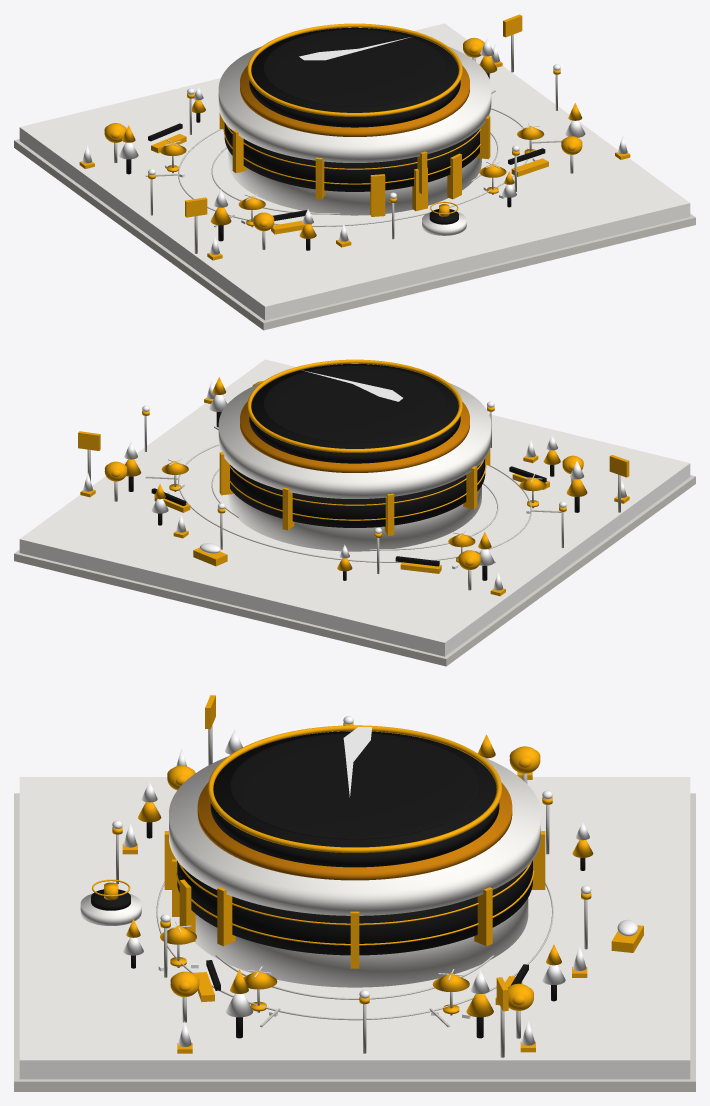
File: zona_plaza_central_ultra_checkpoint_orange.glb
3 views of the same model, one above another, from view 1: azimuth 30°, elevation 25°; view 2: azimuth 150°, elevation 25°; view 3: azimuth 270°, elevation 25° (orthographic). The views are drawn at different scales.
Parts seen in each view (by area): view 1: single compact rounded-square plaza tile, barely convex satin black top surface, wide clean white roof collar, thin visible grey underside bevel, continuous black storefront ribbon, flat black circular roof disk, low wide white cylindrical plaza body, thin amber roof accent under disk, thin bright yellow outline around black roof disk, thin engraved circular plaza paving guide.001, chunky yellow entrance fins.001, round miniature fountain base (+2 smaller); view 2: single compact rounded-square plaza tile, barely convex satin black top surface, wide clean white roof collar, thin visible grey underside bevel, continuous black storefront ribbon, low wide white cylindrical plaza body, flat black circular roof disk, thin amber roof accent under disk, thin bright yellow outline around black roof disk, thin engraved circular plaza paving guide.001, thin yellow horizontal facade grid line, white nike swoosh on roof (+1 smaller); view 3: single compact rounded-square plaza tile, barely convex satin black top surface, wide clean white roof collar, thin visible grey underside bevel, continuous black storefront ribbon, low wide white cylindrical plaza body, flat black circular roof disk, thin amber roof accent under disk, thin bright yellow outline around black roof disk, round miniature fountain base, thin engraved circular plaza paving guide.001, solid yellow facade column.001 (+5 smaller).
Boxes of the visible parts, x1=… form: single compact rounded-square plaza tile: x1=19, y1=23, x2=690, y2=320; barely convex satin black top surface: x1=263, y1=29, x2=446, y2=106; wide clean white roof collar: x1=218, y1=46, x2=491, y2=162; thin visible grey underside bevel: x1=14, y1=139, x2=695, y2=330; continuous black storefront ribbon: x1=224, y1=122, x2=479, y2=191; flat black circular roof disk: x1=249, y1=27, x2=460, y2=127; low wide white cylindrical plaza body: x1=228, y1=150, x2=481, y2=215; thin amber roof accent under disk: x1=240, y1=65, x2=469, y2=136; thin bright yellow outline around black roof disk: x1=247, y1=23, x2=462, y2=116; thin engraved circular plaza paving guide.001: x1=178, y1=108, x2=531, y2=226; chunky yellow entrance fins.001: x1=370, y1=174, x2=385, y2=216; round miniature fountain base: x1=422, y1=212, x2=466, y2=235; single compact rounded-square plaza tile: x1=19, y1=359, x2=690, y2=656; barely convex satin black top surface: x1=263, y1=365, x2=446, y2=443; wide clean white roof collar: x1=218, y1=382, x2=491, y2=498; thin visible grey underside bevel: x1=14, y1=475, x2=695, y2=666; continuous black storefront ribbon: x1=230, y1=459, x2=485, y2=527; low wide white cylindrical plaza body: x1=228, y1=486, x2=481, y2=551; flat black circular roof disk: x1=249, y1=364, x2=460, y2=463; thin amber roof accent under disk: x1=240, y1=401, x2=469, y2=472; thin bright yellow outline around black roof disk: x1=247, y1=359, x2=462, y2=452; thin engraved circular plaza paving guide.001: x1=178, y1=444, x2=531, y2=562; thin yellow horizontal facade grid line: x1=229, y1=458, x2=486, y2=520; white nike swoosh on roof: x1=302, y1=370, x2=402, y2=401; single compact rounded-square plaza tile: x1=19, y1=777, x2=690, y2=1079; barely convex satin black top surface: x1=230, y1=733, x2=479, y2=839; wide clean white roof collar: x1=169, y1=756, x2=540, y2=915; thin visible grey underside bevel: x1=14, y1=793, x2=695, y2=1091; continuous black storefront ribbon: x1=177, y1=860, x2=532, y2=955; low wide white cylindrical plaza body: x1=195, y1=898, x2=528, y2=987; flat black circular roof disk: x1=210, y1=731, x2=499, y2=867; thin amber roof accent under disk: x1=197, y1=782, x2=512, y2=880; thin bright yellow outline around black roof disk: x1=207, y1=725, x2=502, y2=852; round miniature fountain base: x1=80, y1=893, x2=141, y2=925; thin engraved circular plaza paving guide.001: x1=156, y1=882, x2=553, y2=1020; solid yellow facade column.001: x1=474, y1=887, x2=492, y2=946.
Size of the model in its own units: 4.35 by 1.29 by 4.25.
